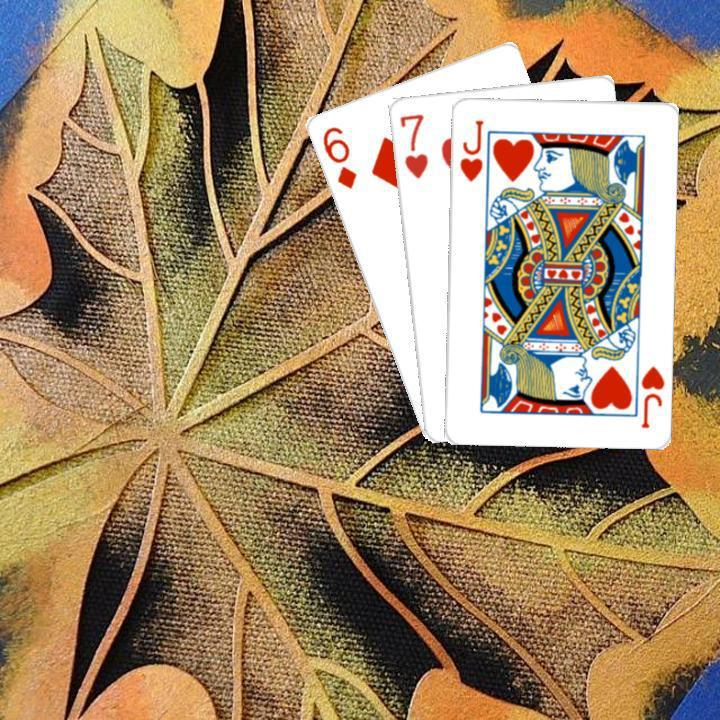6: (317, 121, 359, 191)
7: (395, 109, 429, 181)
J: (455, 115, 485, 183), (637, 361, 666, 429)
